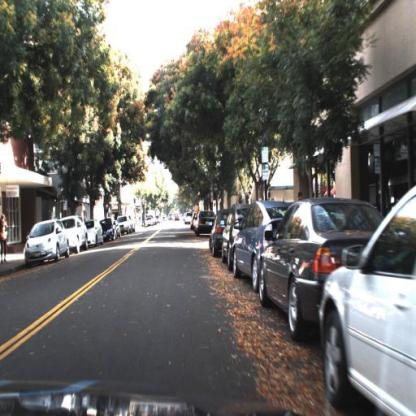car: (321, 184, 416, 416), (258, 198, 388, 347), (258, 200, 347, 345), (232, 199, 295, 287), (22, 215, 71, 270), (208, 206, 235, 260), (62, 216, 91, 260), (193, 208, 217, 237), (103, 216, 126, 246), (85, 221, 105, 252)
pedestrian: (2, 211, 10, 265)
